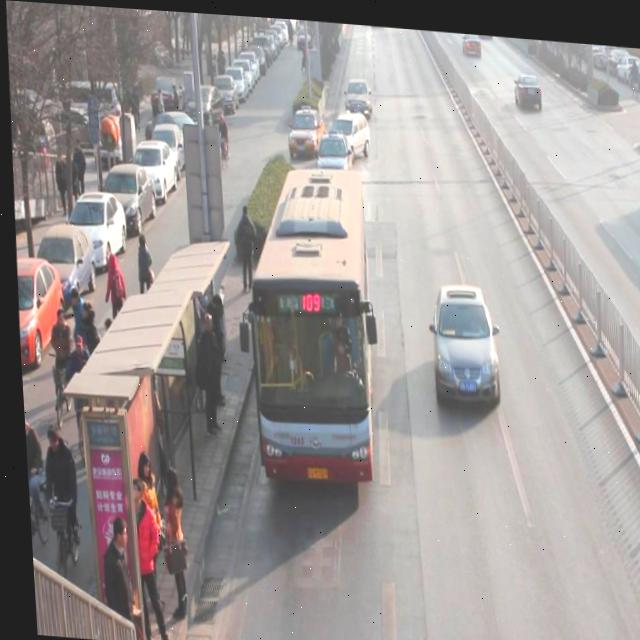car: (425, 277, 498, 401), (284, 100, 326, 157), (329, 104, 370, 155), (313, 122, 352, 173), (511, 63, 542, 103), (342, 71, 372, 109)
van: (237, 160, 374, 483)
